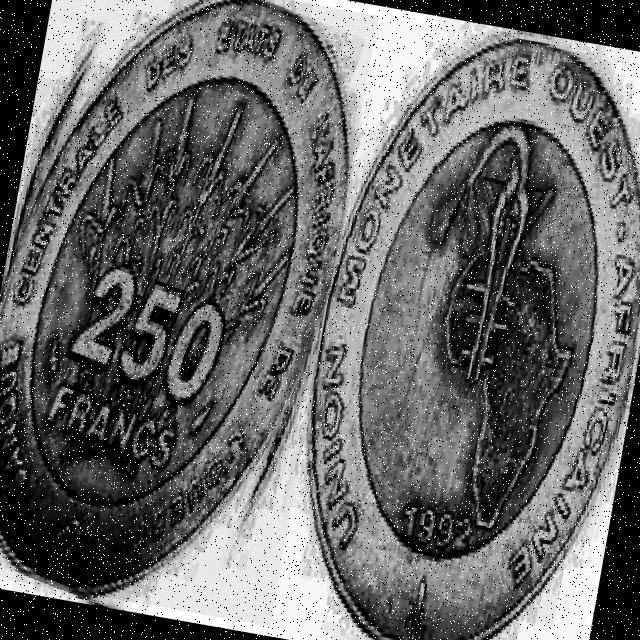juroom fukk: (0, 0, 344, 591), (312, 39, 640, 640)
